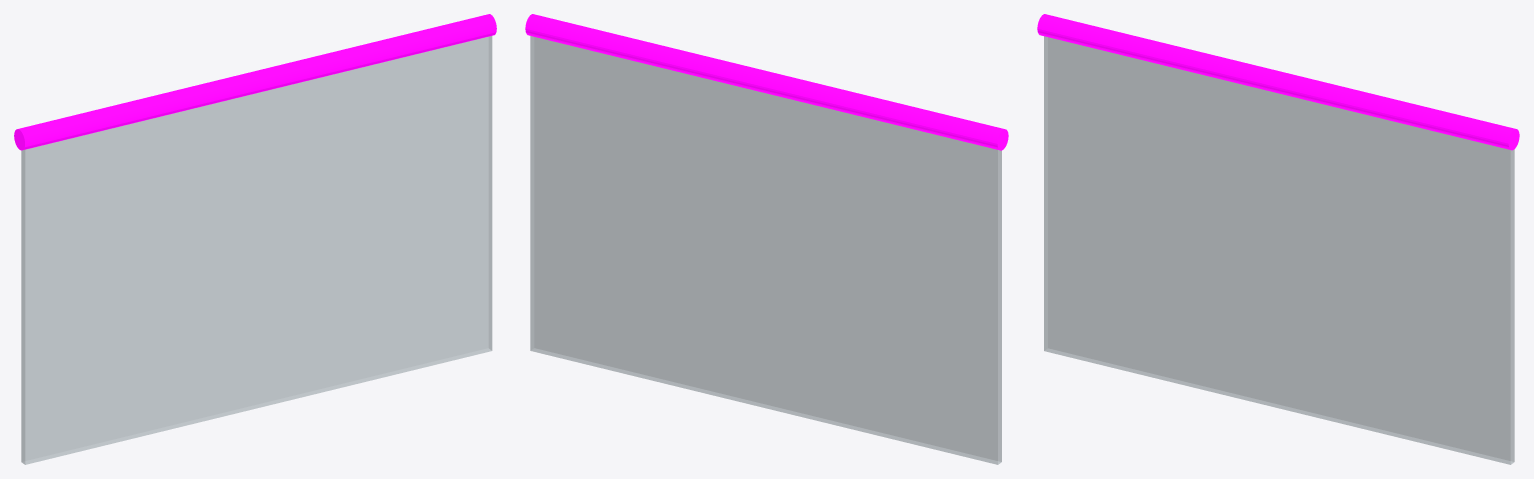
File: Wall.fbx
3 renders of one model, left to right at view 1: azimuth 30°, elevation 25°; view 2: azimuth 150°, elevation 25°; view 3: azimuth 330°, elevation 25°, orthographic.
Visible parts, largest first — view 1: Cylinder; view 2: Cylinder; view 3: Cylinder.
Part boxes in pixels (x1,y1,x2,y2): Cylinder: (14, 14, 496, 464); Cylinder: (525, 14, 1008, 464); Cylinder: (1037, 14, 1519, 464).
Size of the model in its own units: 661 by 448 by 26.62.
